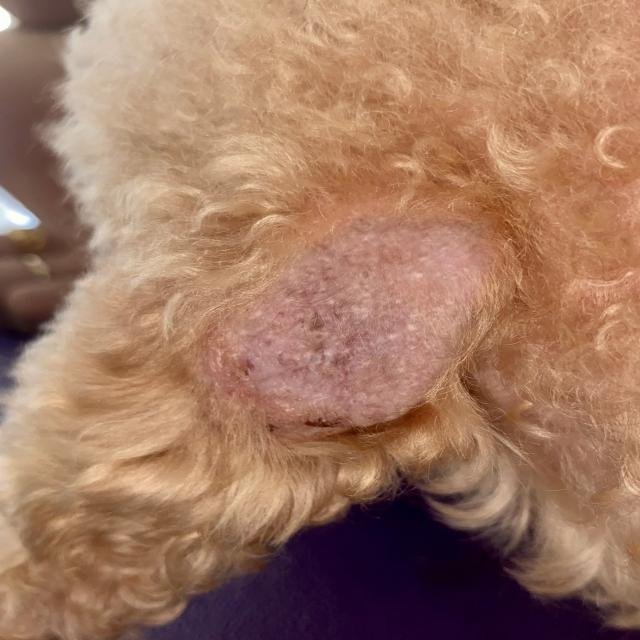ringworm: (208, 187, 542, 447)
